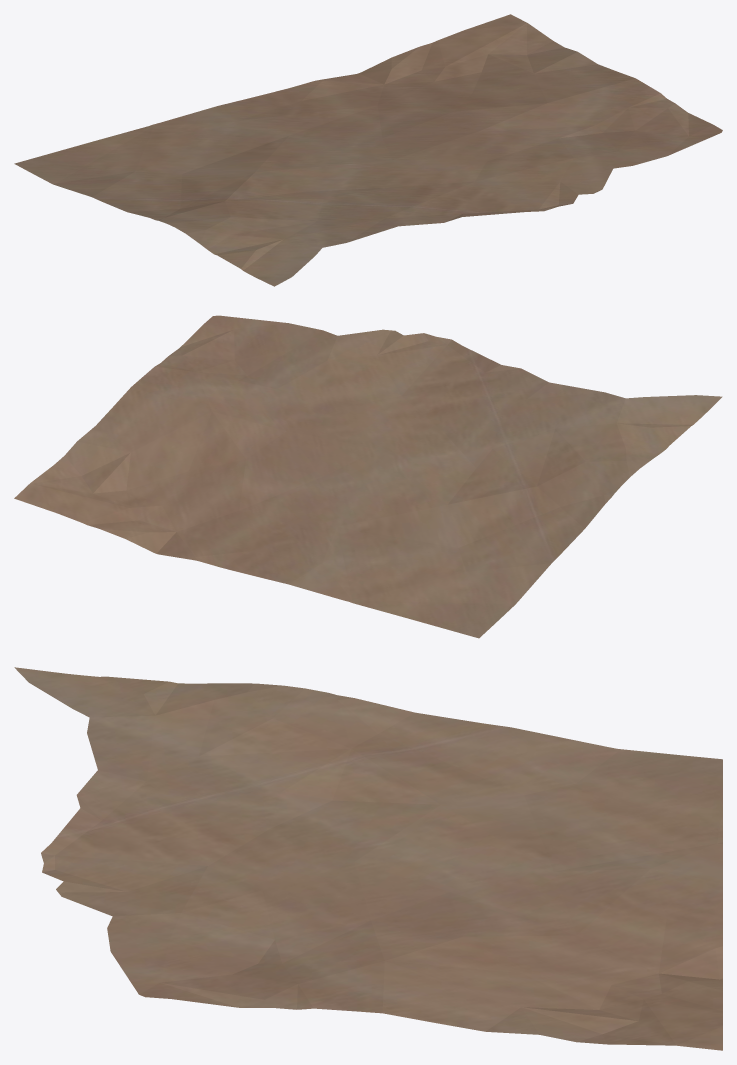
3 views of the same model, one above another, from view 1: azimuth 30°, elevation 25°; view 2: azimuth 150°, elevation 25°; view 3: azimuth 270°, elevation 25° (orthographic). The views are drawn at different scales.
Bounding box in the file's own units: 1.04 × 0.1359 × 0.9485.
Materials: 2 (2 with a texture image).
